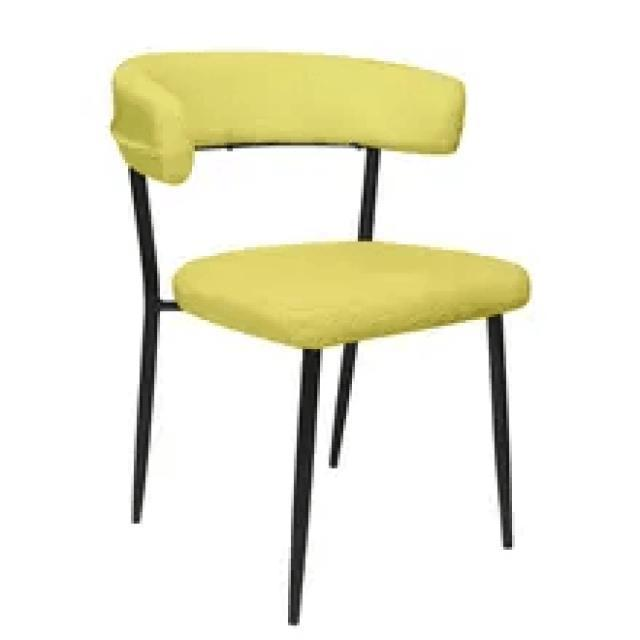chair: (106, 46, 533, 624), (116, 42, 529, 348)
